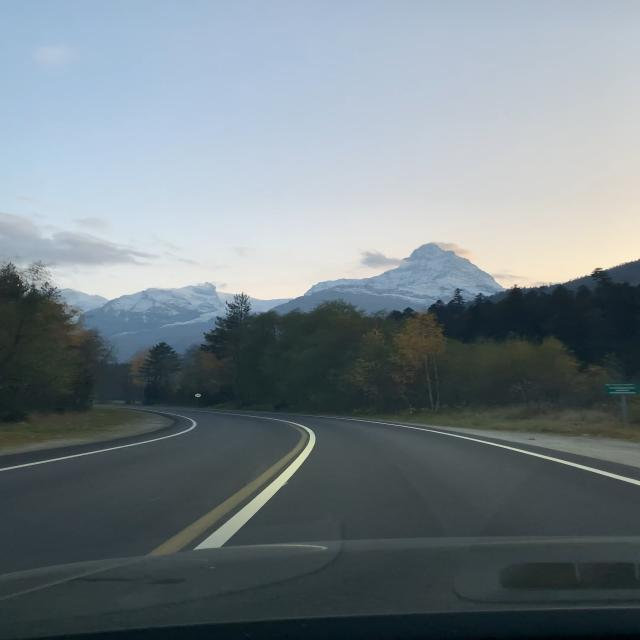asphalt: (0, 409, 640, 574)
